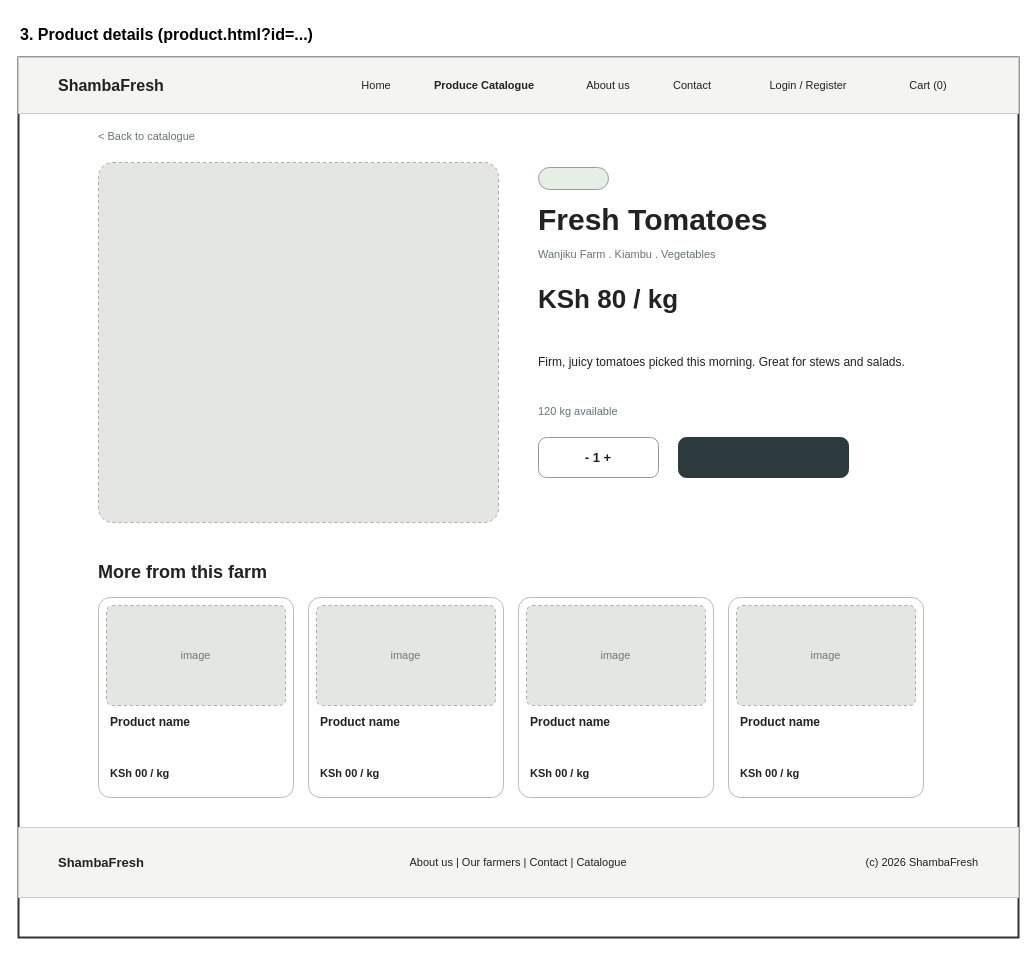
This 1036x955 diagram has some shape labels left out. Each missing label, with the centre of its shape:
Add to cart: [763,457]
Large product image: [298,342]
Popular: [573,178]
